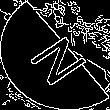N_NE: (19, 24, 91, 86)
